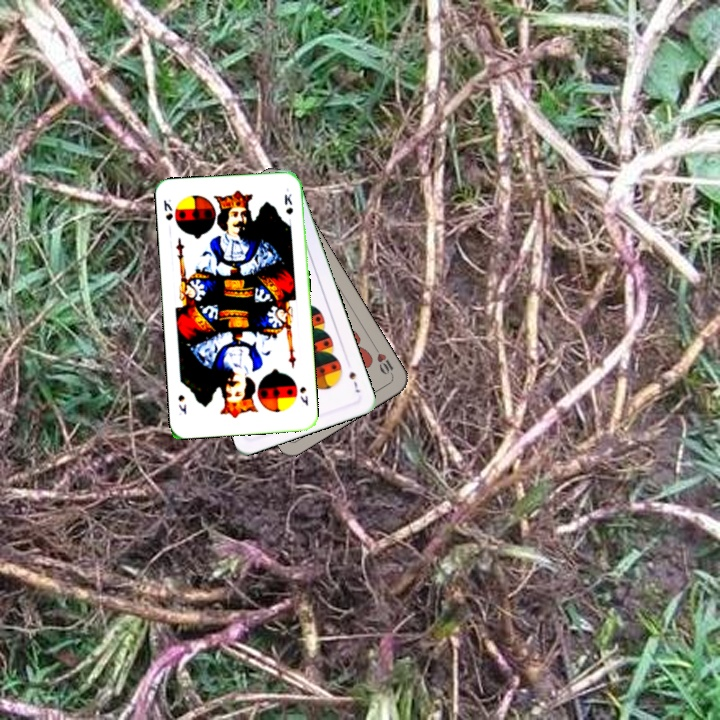H10: (369, 342, 397, 378)
S7: (345, 367, 363, 395)
SK: (159, 195, 176, 223), (296, 382, 311, 408)
